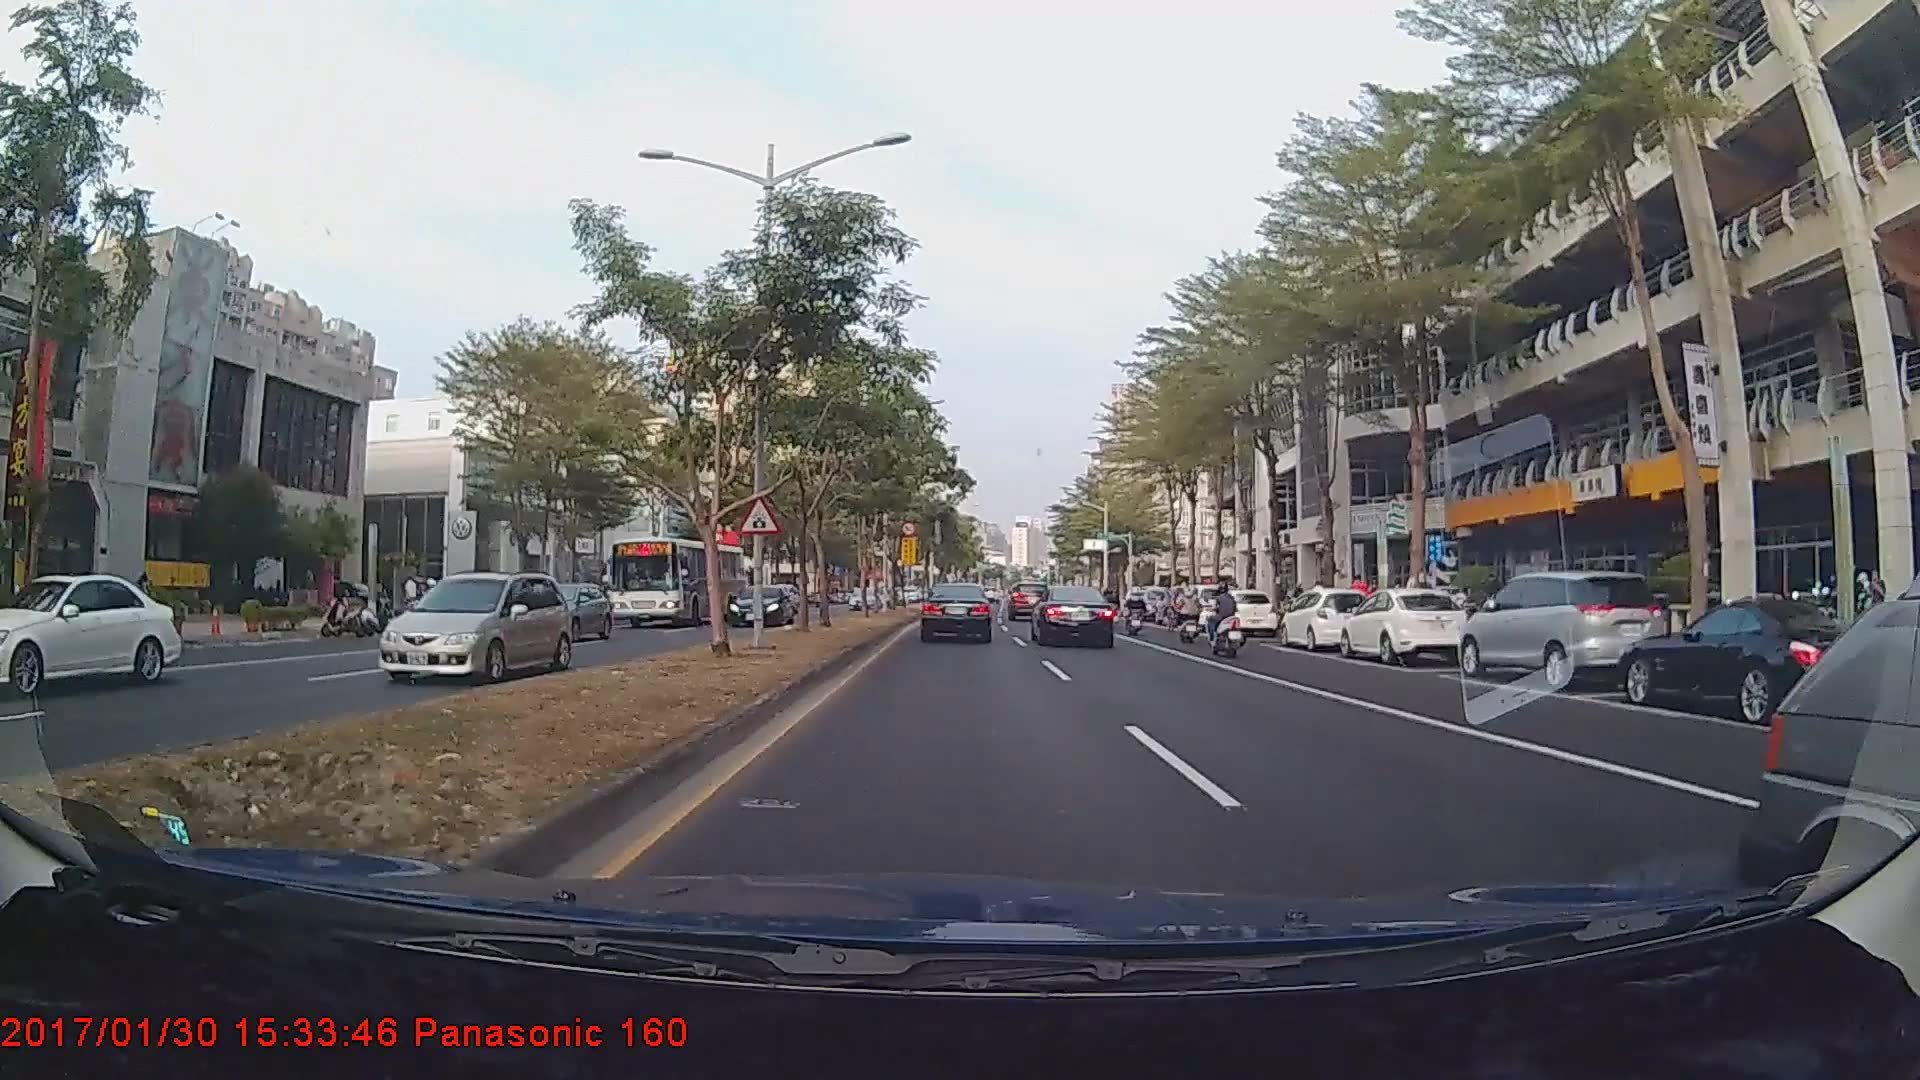rider: (1204, 582, 1253, 660), (1165, 590, 1212, 646), (1121, 586, 1148, 638)
vehicle: (1756, 601, 1918, 848), (1613, 599, 1883, 724), (1455, 569, 1666, 693), (372, 569, 572, 684), (0, 572, 179, 694), (609, 536, 751, 629), (1337, 589, 1469, 665), (1276, 588, 1376, 653), (1030, 584, 1118, 648), (520, 582, 610, 642), (919, 581, 994, 644), (1205, 590, 1277, 638), (727, 584, 795, 626), (1006, 586, 1047, 625)
